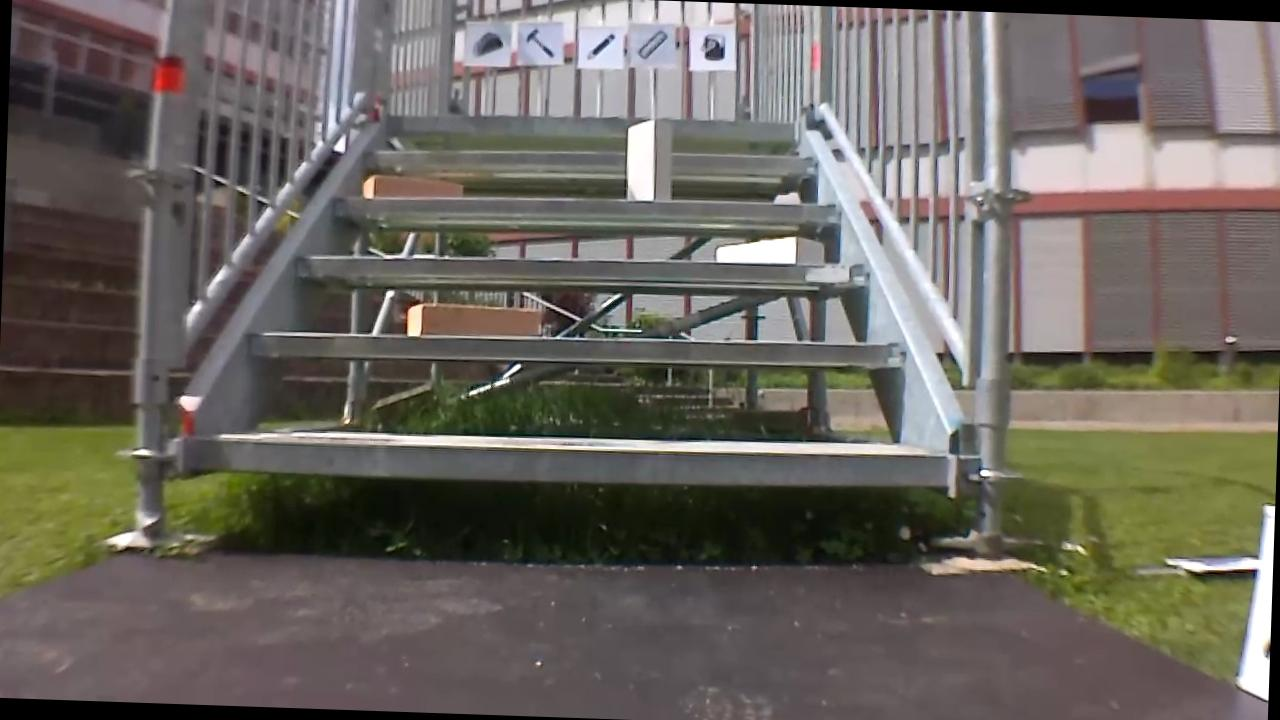brick: (404, 303, 538, 337), (625, 120, 673, 198), (716, 234, 825, 265), (361, 176, 462, 200)
bucket: (696, 30, 729, 61)
edge: (188, 427, 951, 494), (247, 321, 903, 372), (293, 244, 871, 292), (331, 185, 843, 225), (364, 140, 815, 179), (387, 108, 793, 145)
hammer: (519, 23, 560, 61)
pencil: (584, 27, 620, 63)
ruler: (630, 26, 671, 60)
steps: (175, 93, 978, 511)
taco: (467, 25, 506, 61)
